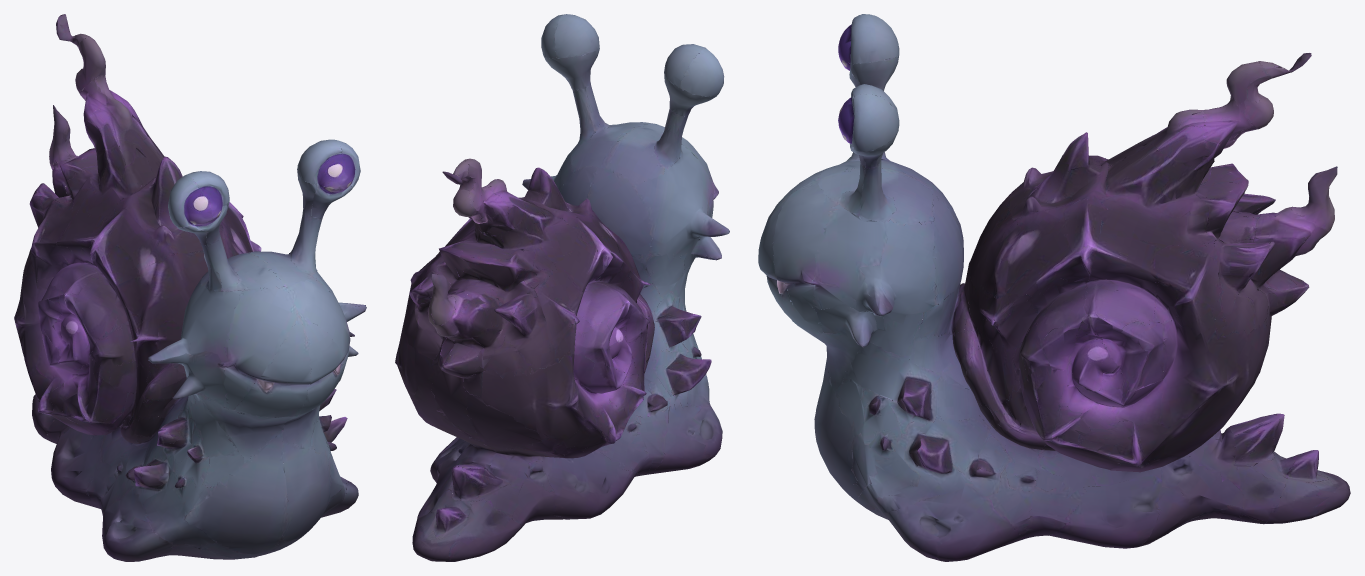
3 renders of one model, left to right at view 1: azimuth 30°, elevation 25°; view 2: azimuth 150°, elevation 25°; view 3: azimuth 270°, elevation 25°, orthographic. The views are drawn at different scales.
Visible parts, largest first — view 1: Mesh_0; view 2: Mesh_0; view 3: Mesh_0.
Boxes of the visible parts, left/top/right/bottom form: Mesh_0: left=14, top=14, right=366, bottom=561; Mesh_0: left=395, top=14, right=729, bottom=561; Mesh_0: left=758, top=14, right=1350, bottom=561.
Size of the model in its own units: 1.01 by 1.59 by 1.9.
1 material, 1 textured.
